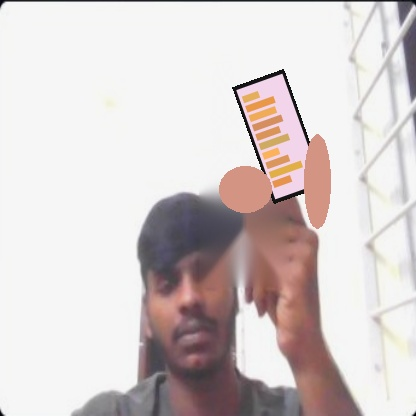cell_phone: (232, 69, 325, 204)
